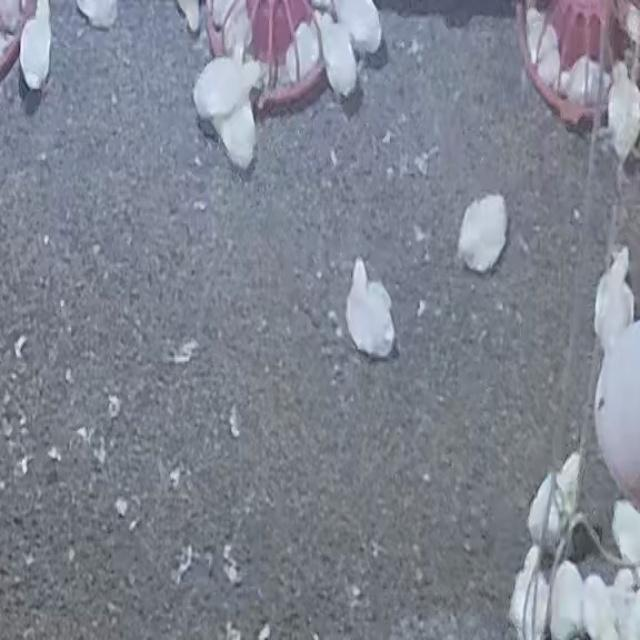chicken: (342, 253, 401, 361), (457, 192, 512, 274), (318, 11, 361, 107)
